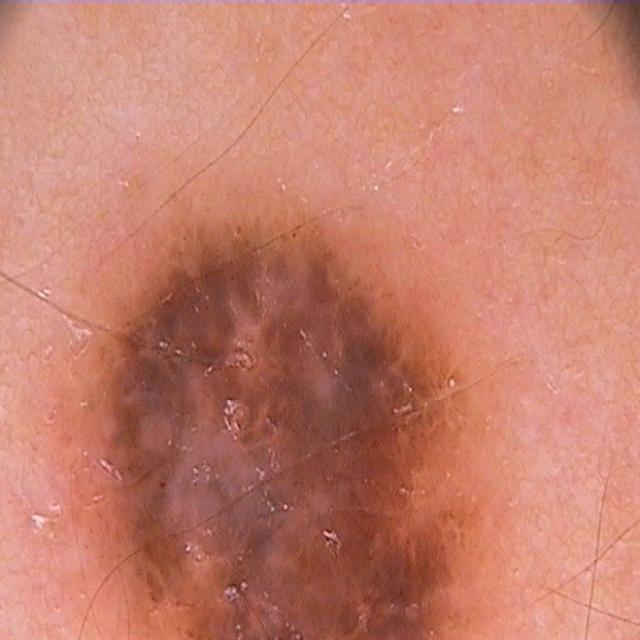Melanoma: (85, 204, 510, 640)
